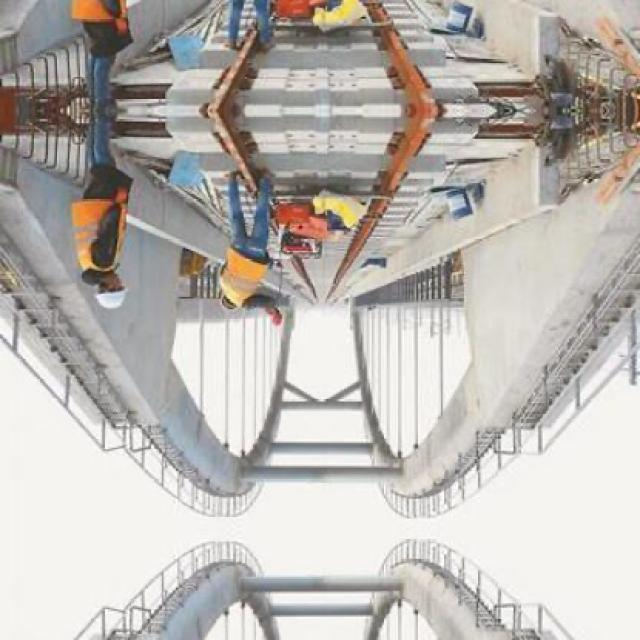con casco: (80, 260, 152, 314), (203, 276, 266, 326)
